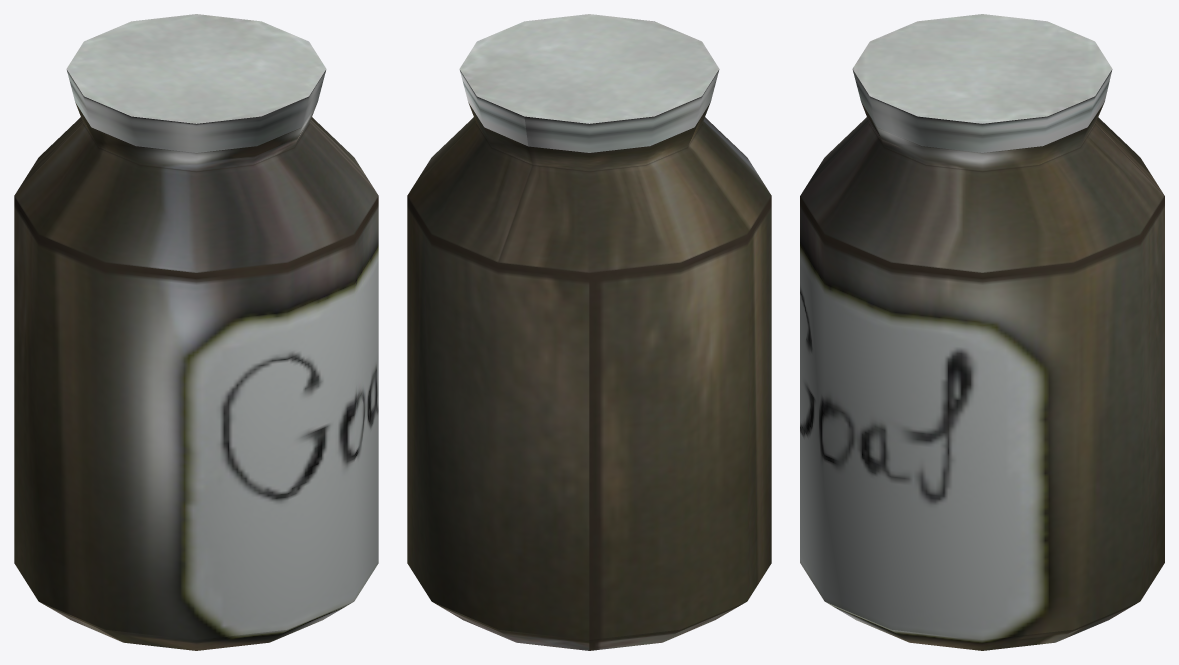
File: item_chemjar_coal.dae
3 renders of one model, left to right at view 1: azimuth 30°, elevation 25°; view 2: azimuth 150°, elevation 25°; view 3: azimuth 270°, elevation 25°, orthographic.
Visible parts, largest first — view 1: jar2; view 2: jar2; view 3: jar2.
Part boxes in pixels (x1,y1,x2,y2): jar2: (14, 14, 378, 650); jar2: (407, 14, 771, 650); jar2: (800, 14, 1164, 650).
Size of what is drawn, in the model's own units: 0.1989 by 0.3132 by 0.1989.
